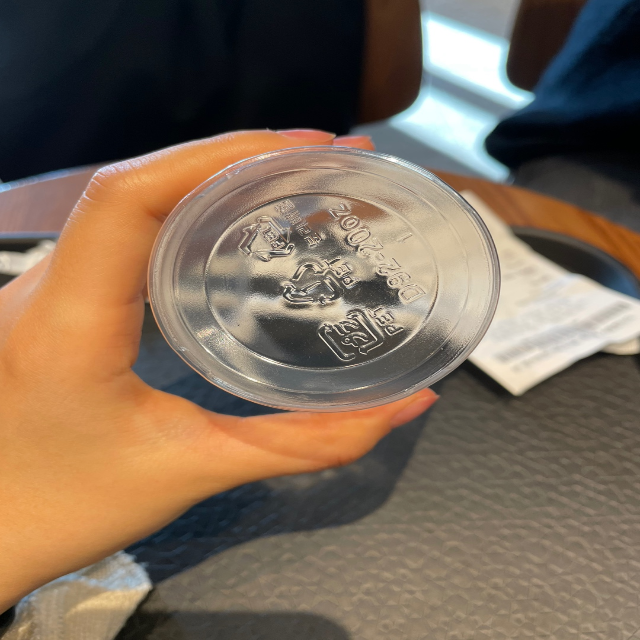pet: (236, 197, 327, 263), (310, 307, 406, 357), (277, 257, 363, 309)
